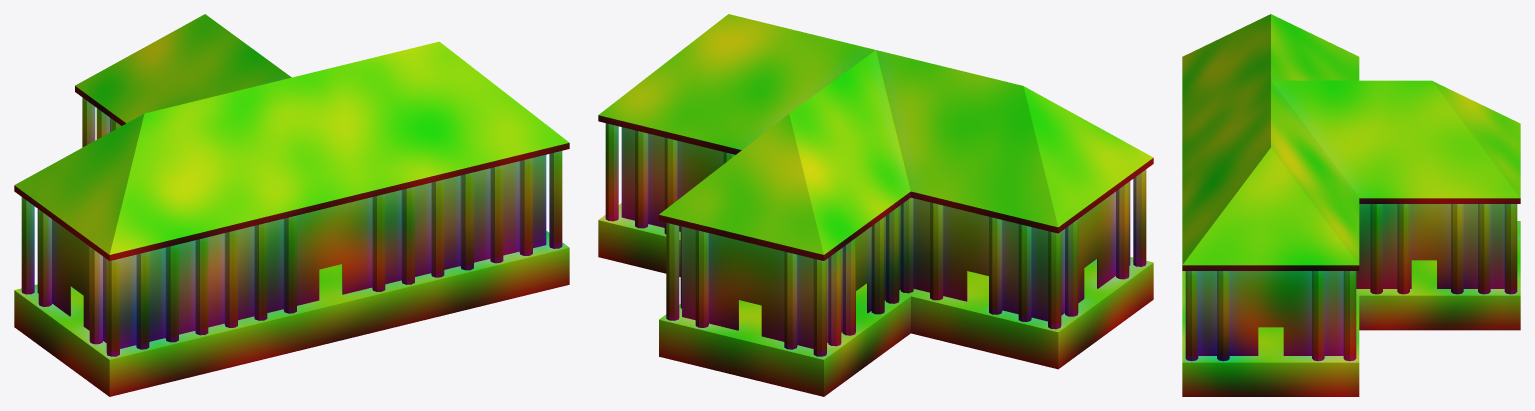
Rendered from MS_BuildingLarge_03.fbx.
3 renders of one model, left to right at view 1: azimuth 30°, elevation 25°; view 2: azimuth 150°, elevation 25°; view 3: azimuth 270°, elevation 25°, orthographic. The views are drawn at different scales.
Parts seen in each view (by area): view 1: MS_BuildingLarge_03; view 2: MS_BuildingLarge_03; view 3: MS_BuildingLarge_03.
Boxes of the visible parts, x1,y1,x2,y2 form: MS_BuildingLarge_03: (14,14,569,396); MS_BuildingLarge_03: (598,14,1153,396); MS_BuildingLarge_03: (1182,14,1520,396).
Bounding box in the file's own units: 7800 × 3700 × 5350.
